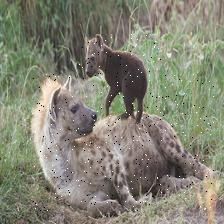hyena: (32, 74, 215, 211), (77, 35, 162, 124)
